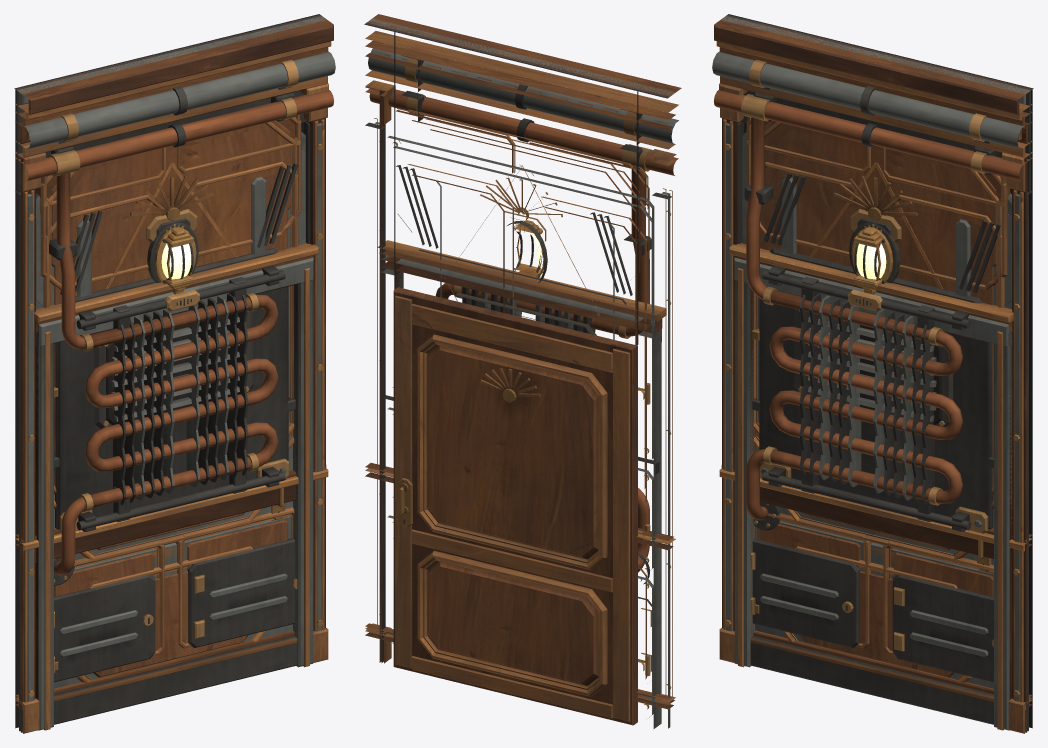
File: architectural-finishes.glb
3 views of the same model, side by side, from view 1: azimuth 30°, elevation 25°; view 2: azimuth 150°, elevation 25°; view 3: azimuth 330°, elevation 25° (orthographic).
Parts seen in each view (by area): view 1: BoilerExchangerBay, TimberBay, BoilerBay, TimberDoor, BoilerDoor, TimberCarvedBay, EncounterDoorLeaf, BoilerServiceBay; view 2: EncounterDoorLeaf, TimberBay, BoilerBay, TimberDoor, BoilerDoor, BoilerExchangerBay, TimberCarvedBay, BoilerServiceBay; view 3: BoilerExchangerBay, TimberBay, BoilerBay, TimberDoor, BoilerDoor, TimberCarvedBay, EncounterDoorLeaf, BoilerServiceBay.
Part boxes in pixels (x1=…): BoilerExchangerBay: x1=47, y1=150, x2=297, y2=682; TimberBay: x1=15, y1=15, x2=333, y2=733; BoilerBay: x1=14, y1=14, x2=335, y2=732; TimberDoor: x1=34, y1=117, x2=318, y2=730; BoilerDoor: x1=14, y1=14, x2=318, y2=730; TimberCarvedBay: x1=46, y1=121, x2=297, y2=493; EncounterDoorLeaf: x1=54, y1=387, x2=287, y2=682; BoilerServiceBay: x1=94, y1=222, x2=253, y2=428; EncounterDoorLeaf: x1=393, y1=287, x2=650, y2=725; TimberBay: x1=365, y1=14, x2=681, y2=709; BoilerBay: x1=364, y1=18, x2=678, y2=728; TimberDoor: x1=377, y1=109, x2=666, y2=716; BoilerDoor: x1=371, y1=26, x2=667, y2=728; BoilerExchangerBay: x1=393, y1=144, x2=652, y2=671; TimberCarvedBay: x1=426, y1=119, x2=645, y2=488; BoilerServiceBay: x1=455, y1=221, x2=596, y2=335; BoilerExchangerBay: x1=741, y1=94, x2=993, y2=682; TimberBay: x1=714, y1=15, x2=1032, y2=733; BoilerBay: x1=712, y1=14, x2=1032, y2=732; TimberDoor: x1=729, y1=120, x2=1013, y2=730; BoilerDoor: x1=728, y1=14, x2=1033, y2=730; TimberCarvedBay: x1=750, y1=121, x2=1001, y2=493; EncounterDoorLeaf: x1=752, y1=328, x2=993, y2=682; BoilerServiceBay: x1=794, y1=222, x2=953, y2=426.
Size of the model in its own units: 2 by 4 by 0.321.
3 materials, 2 textured.
